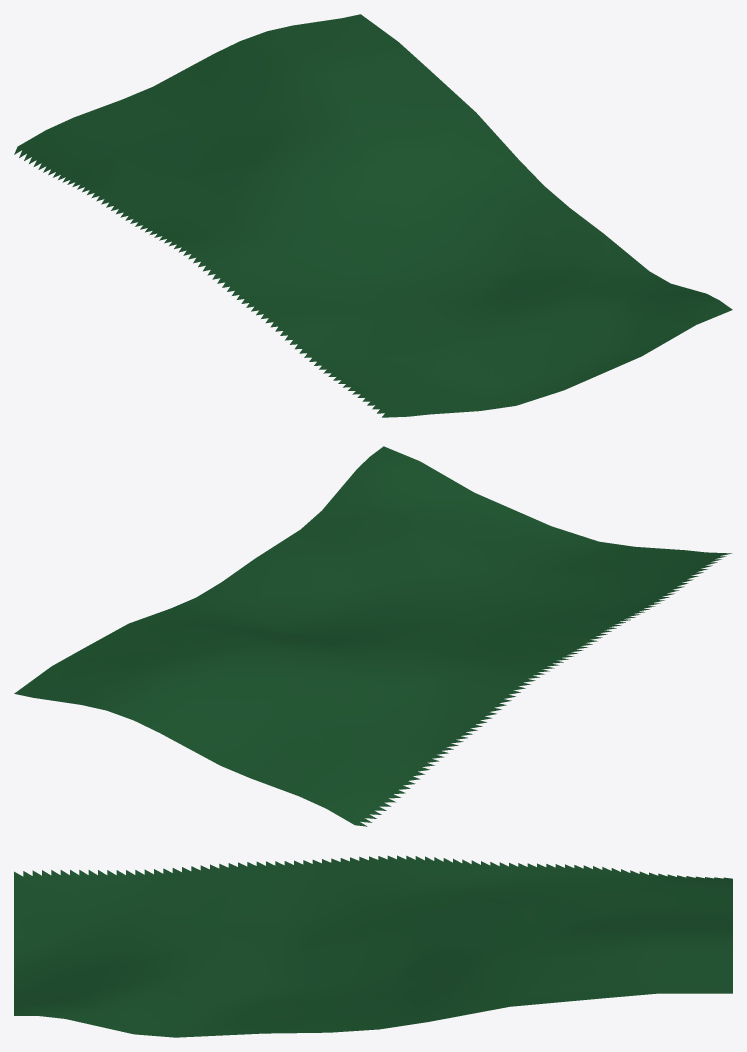
Rendered from payo_land_xm5_ym4_lod1.glb.
The picture shows the model from 3 angles, top to bottom: view 1: azimuth 30°, elevation 25°; view 2: azimuth 150°, elevation 25°; view 3: azimuth 270°, elevation 25°; orthographic projection. The views are drawn at different scales.
Visible parts, largest first — view 1: payo_land_xm5_ym4; view 2: payo_land_xm5_ym4; view 3: payo_land_xm5_ym4.
Boxes of the visible parts, x1,y1,x2,y2 form: payo_land_xm5_ym4: (14, 14, 732, 417); payo_land_xm5_ym4: (14, 446, 732, 826); payo_land_xm5_ym4: (14, 855, 732, 1037).
Size of the model in its own units: 126 by 25.08 by 231.
